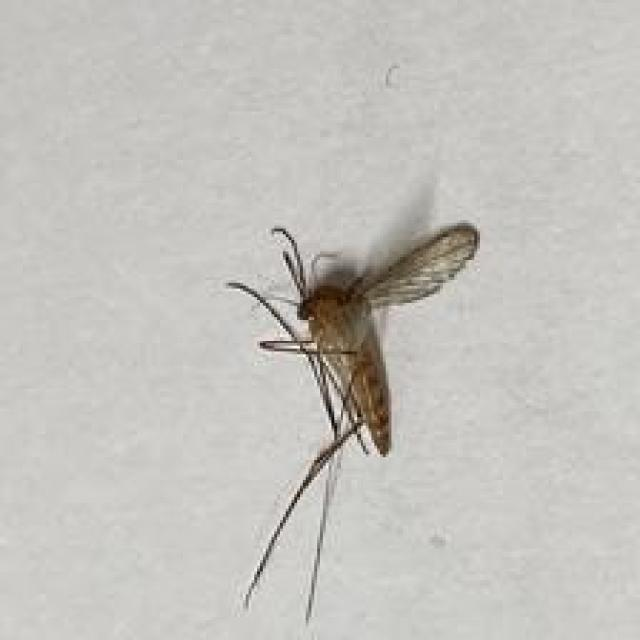Culex: (224, 219, 482, 624)
